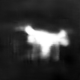plane: (14, 23, 70, 63)
